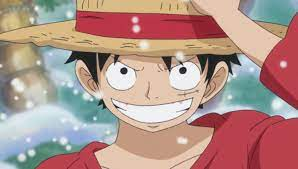Luffy: (74, 1, 226, 134)
